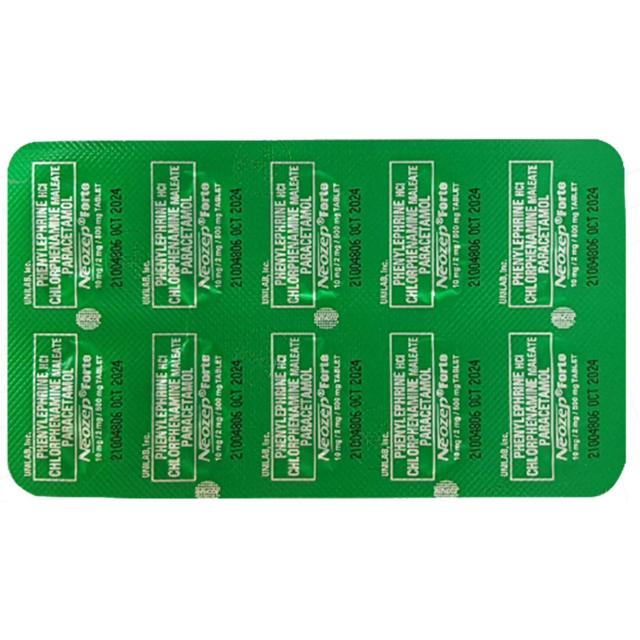blister: (5, 138, 631, 502)
